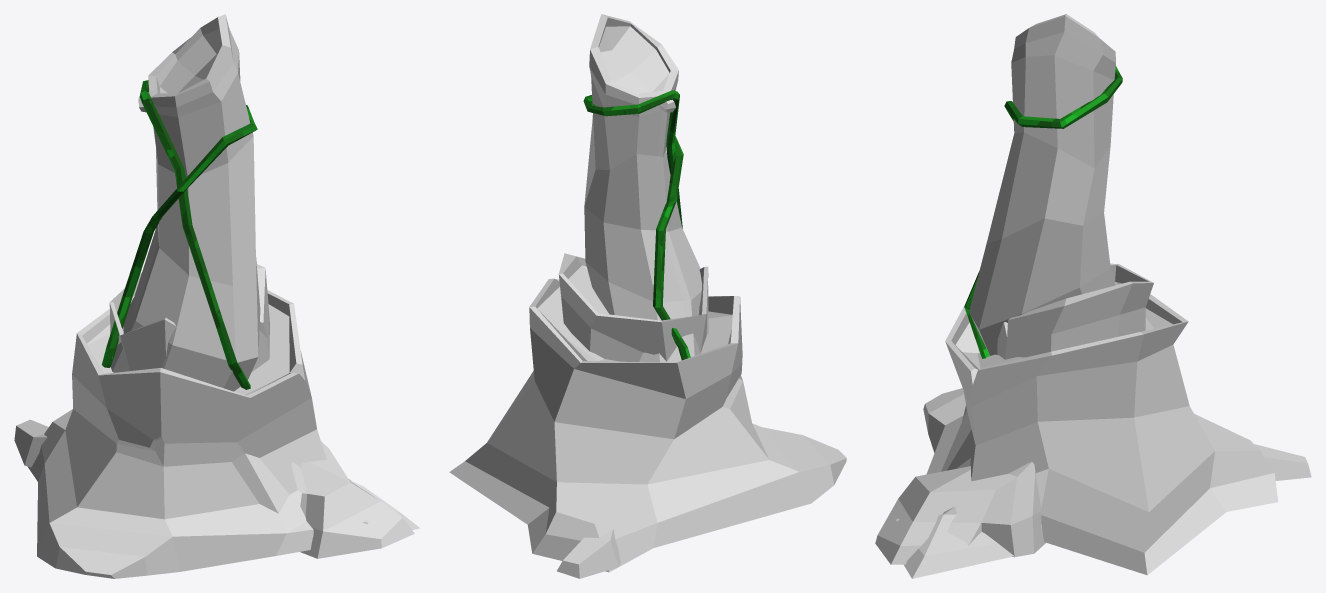
Rendered from Stumps 1.FBX.
3 renders of one model, left to right at view 1: azimuth 30°, elevation 25°; view 2: azimuth 150°, elevation 25°; view 3: azimuth 270°, elevation 25°, orthographic. The views are drawn at different scales.
Visible parts, largest first — view 1: Stump 1, Stump 2, Stump 3, Stump2Vine; view 2: Stump 1, Stump 2, Stump 3, Stump2Vine; view 3: Stump 1, Stump 2, Stump 3, Stump2Vine.
Part boxes in pixels (box(x1,y1,x2,y2)): Stump 1: box(27, 290, 419, 578); Stump 2: box(111, 14, 260, 391); Stump 3: box(14, 264, 414, 558); Stump2Vine: box(102, 80, 257, 389); Stump 1: box(449, 278, 846, 572); Stump 2: box(584, 14, 708, 362); Stump 3: box(557, 253, 708, 578); Stump2Vine: box(583, 90, 690, 360); Stump 1: box(895, 294, 1278, 578); Stump 2: box(969, 14, 1115, 355); Stump 3: box(875, 263, 1311, 564); Stump2Vine: box(964, 66, 1122, 358).
Size of the model in its own units: 78.28 by 113 by 87.36.
